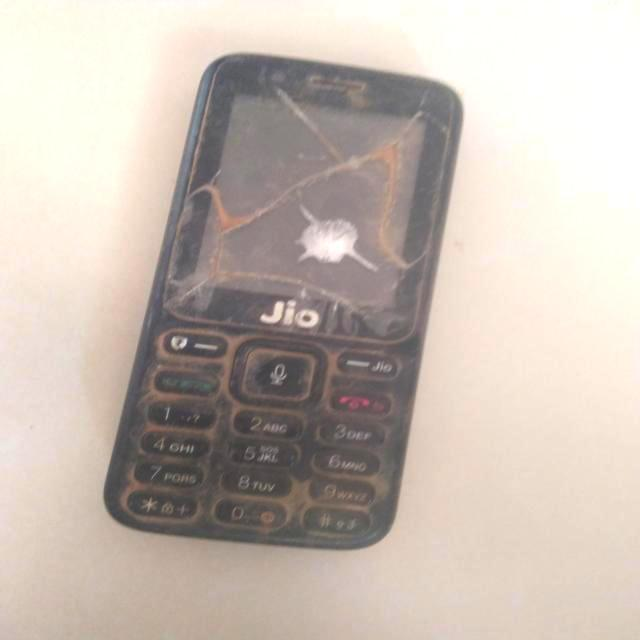phone: (96, 35, 496, 590)
